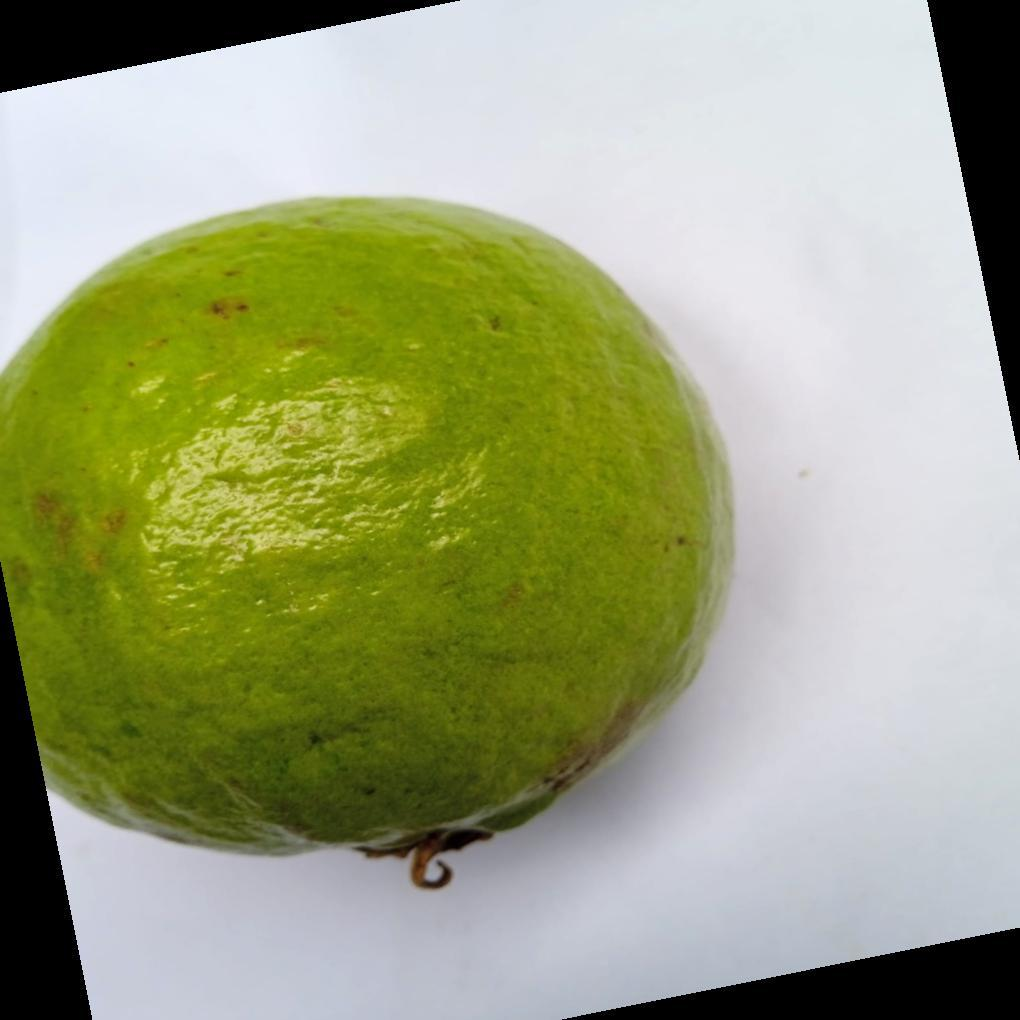FreshGuava: (0, 197, 737, 892)
